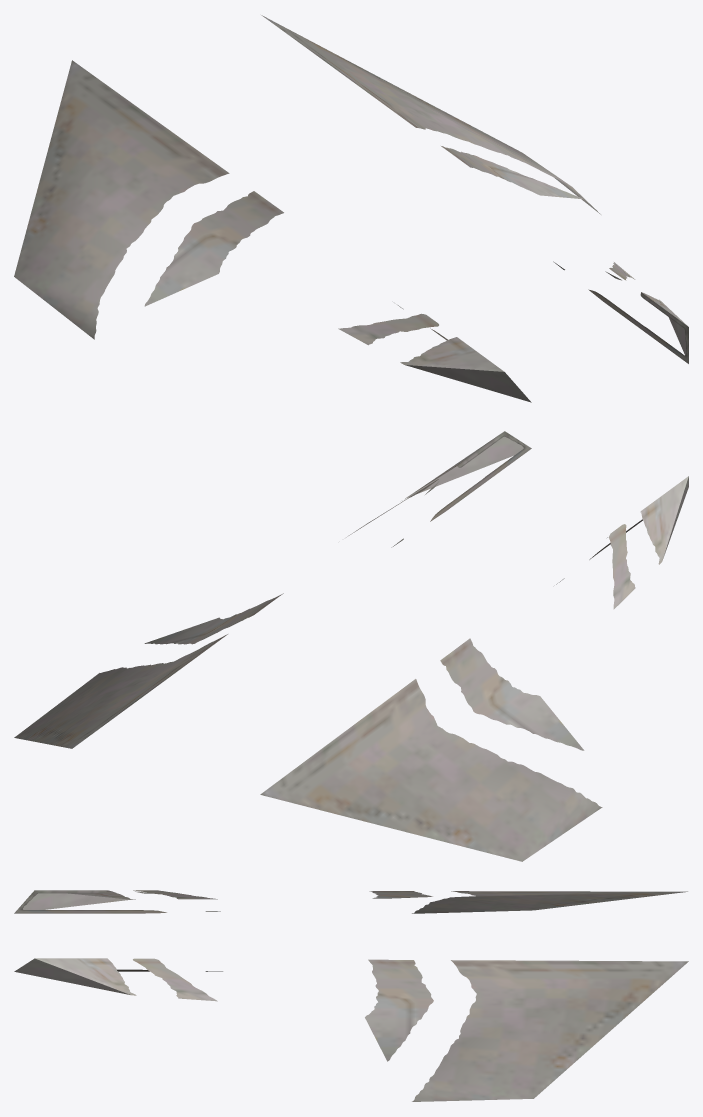
Rendered from hutt_fighter_medium_struct_s02_l3.fbx.
The picture shows the model from 3 angles, top to bottom: view 1: azimuth 30°, elevation 25°; view 2: azimuth 150°, elevation 25°; view 3: azimuth 270°, elevation 25°; orthographic projection. The views are drawn at different scales.
Visible parts, largest first — view 1: mesh_node; view 2: mesh_node; view 3: mesh_node.
Part boxes in pixels (x1,y1,x2,y2): mesh_node: (14, 15, 688, 402); mesh_node: (14, 431, 688, 861); mesh_node: (14, 890, 688, 1101).
Bounding box in the file's own units: 13.72 × 2.86 × 20.77.
